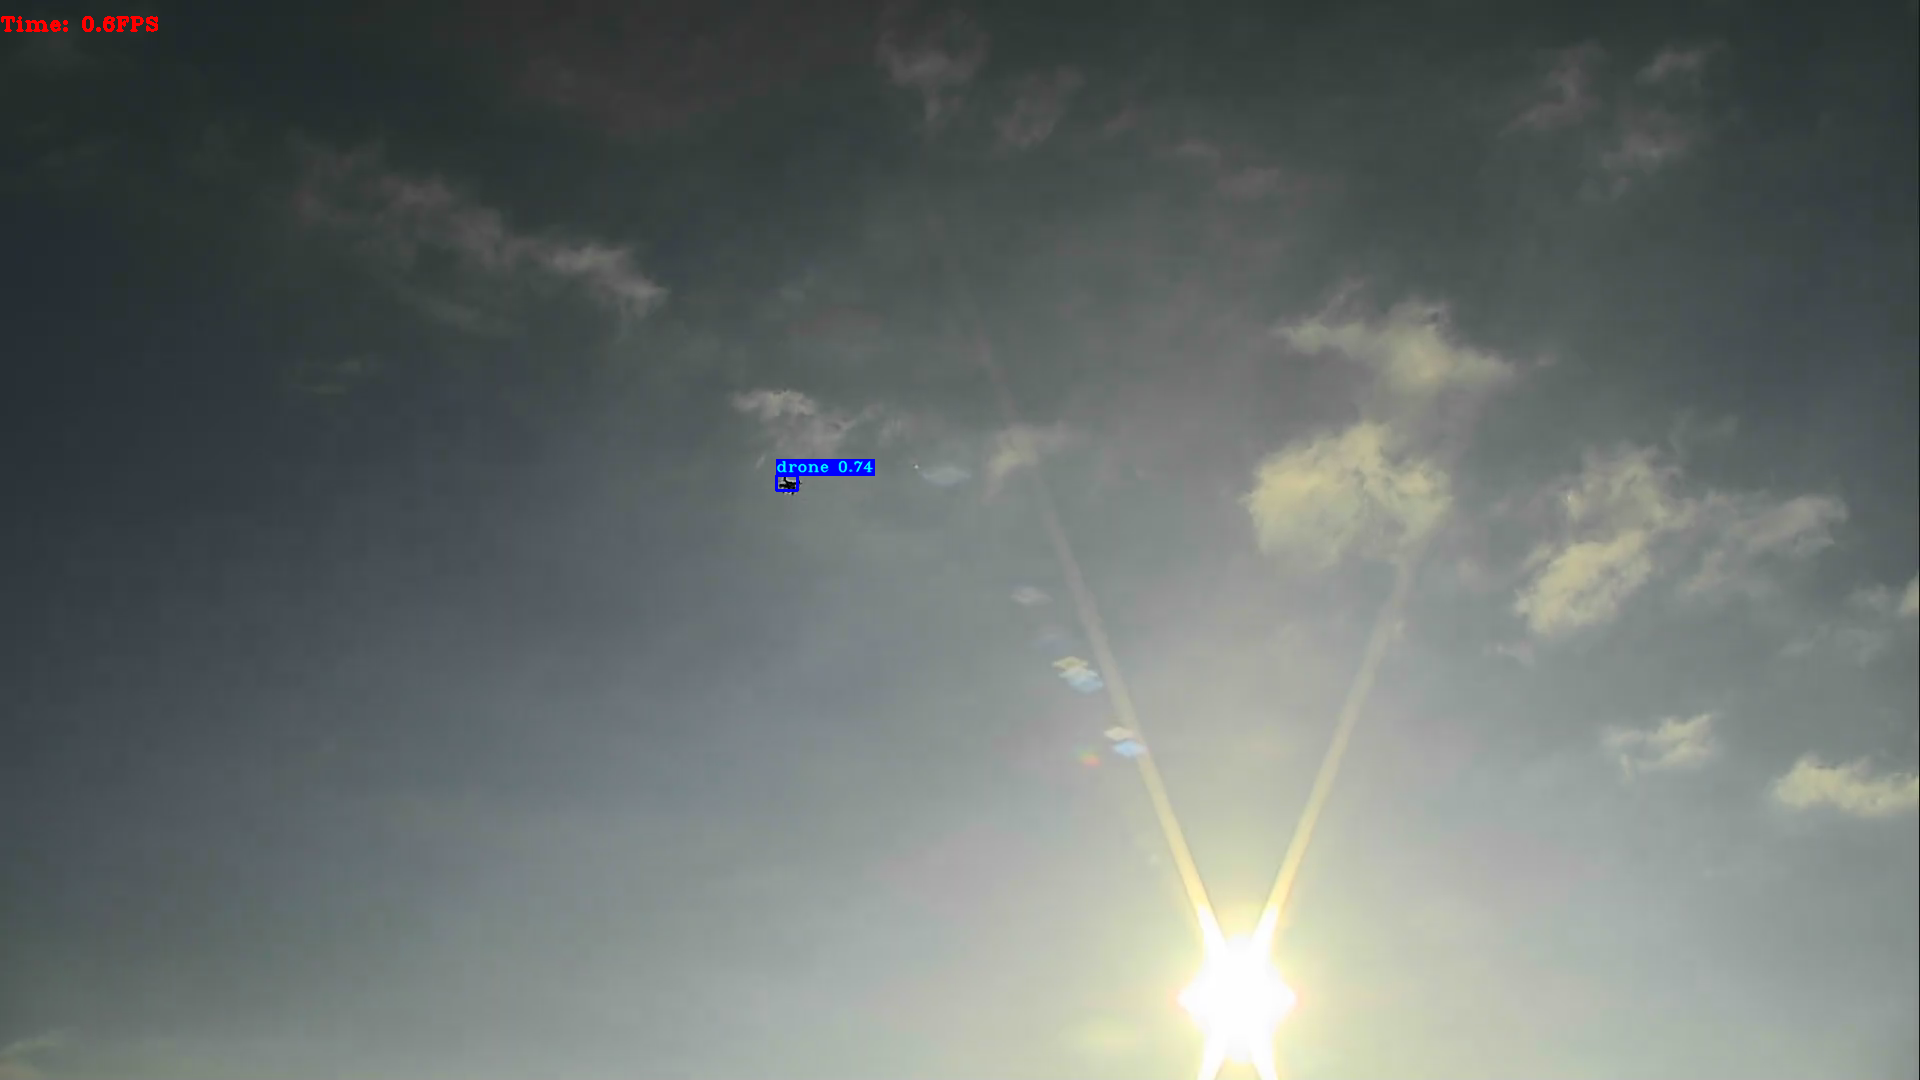drone: (775, 475, 796, 491)
